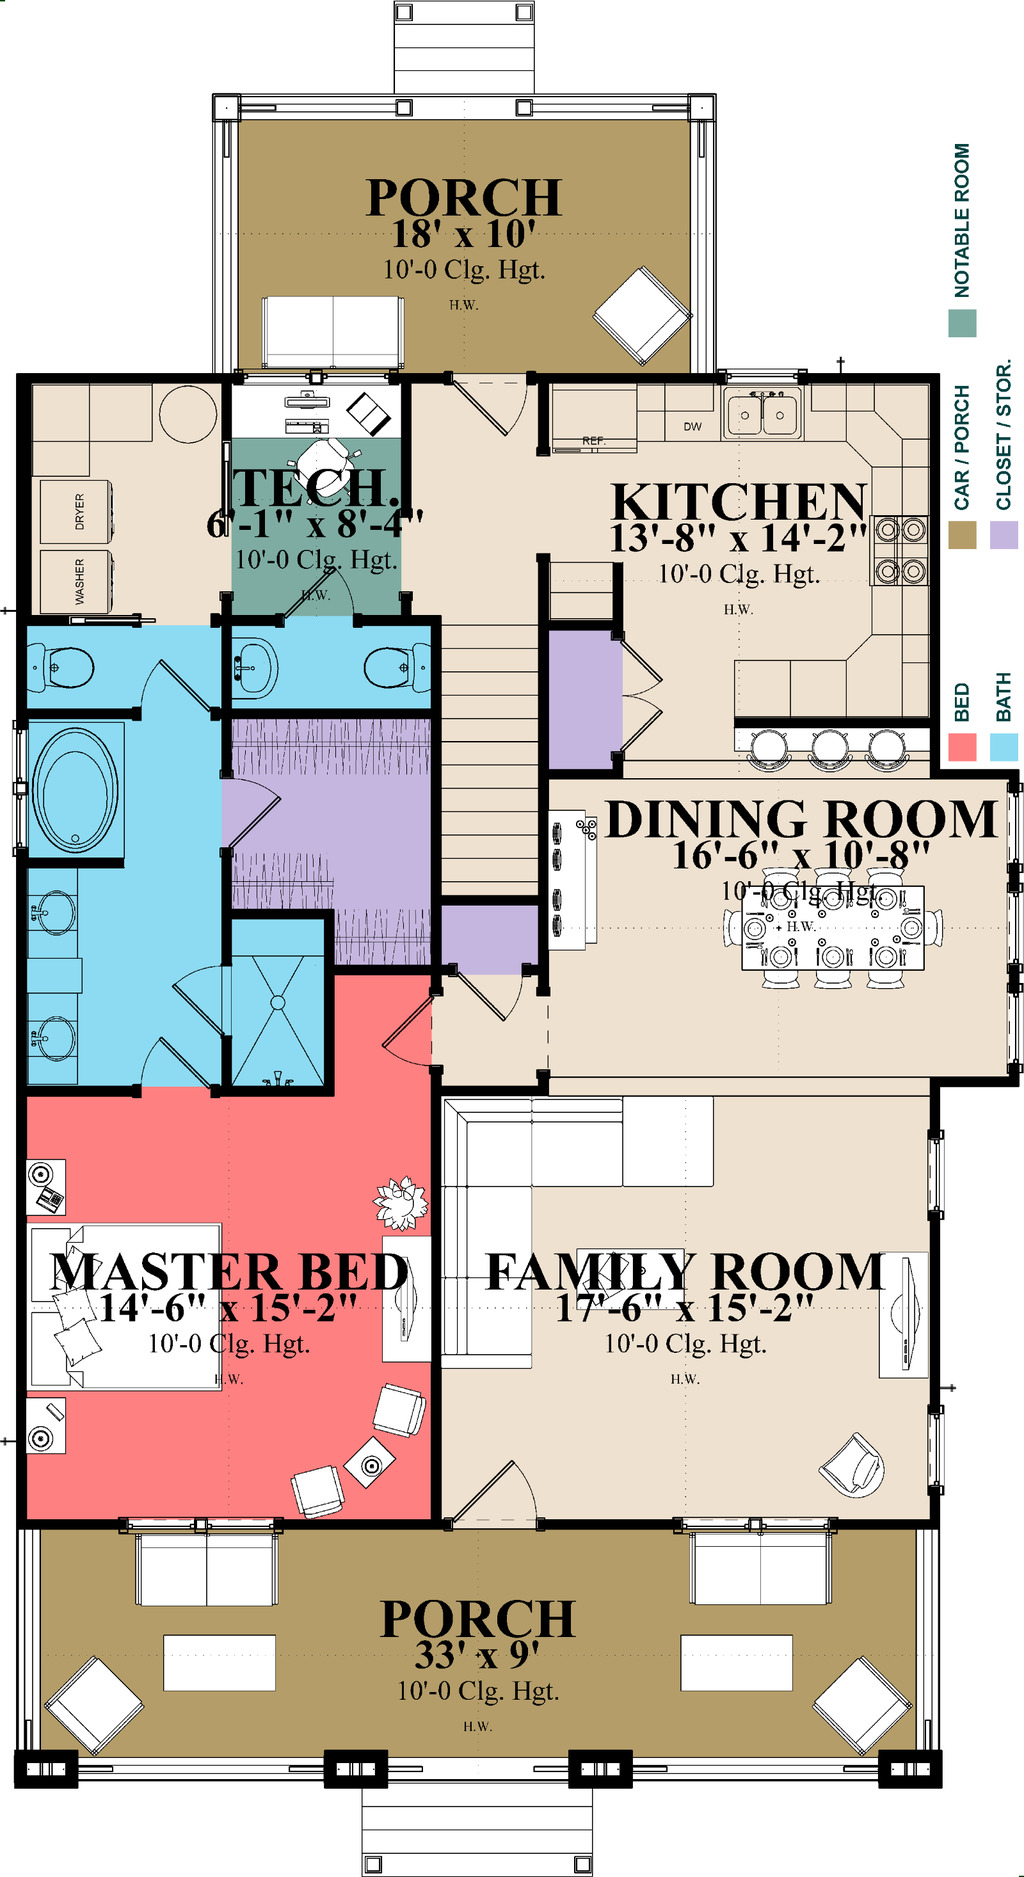bed: (25, 1221, 231, 1395)
dining_table: (705, 857, 946, 1005)
door: (440, 1455, 562, 1532), (602, 632, 675, 755), (449, 355, 533, 442), (155, 952, 231, 1040), (372, 978, 446, 1066), (213, 763, 288, 846), (129, 645, 202, 719), (288, 572, 375, 632), (451, 963, 531, 1025), (134, 1040, 213, 1090)
large_sink: (11, 613, 113, 719), (337, 625, 434, 710)
small_sink: (11, 857, 100, 1102), (235, 608, 288, 710)
small_sofa: (808, 1643, 908, 1764), (590, 260, 696, 363), (40, 1656, 143, 1752)
stairs: (422, 552, 557, 896)
tub: (11, 700, 137, 857)
twin_sink: (705, 369, 818, 442)
